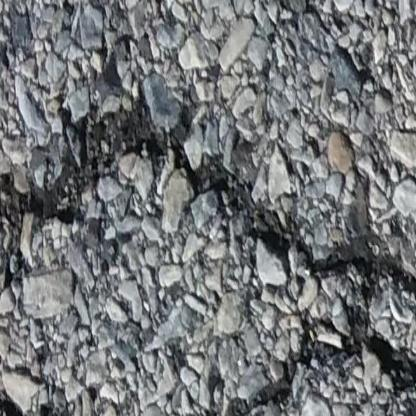Cracks: (0, 101, 416, 416), (0, 381, 89, 416)
